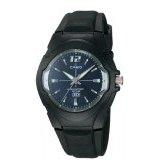watch: (33, 36, 120, 131)
